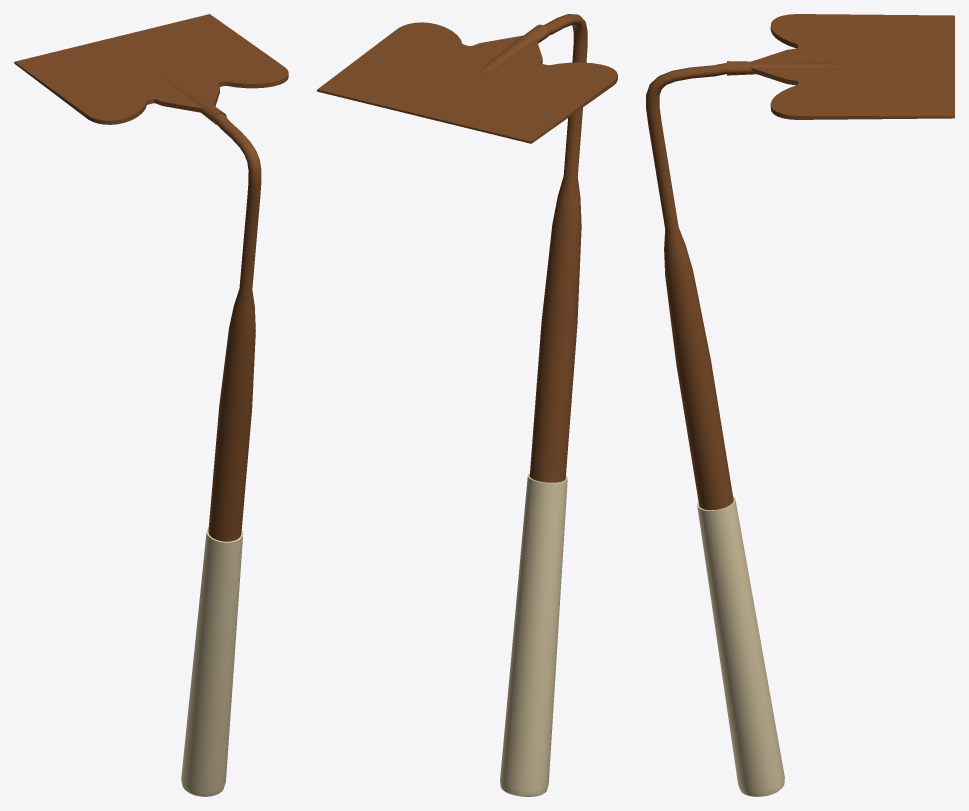
Rendered from hoe.fbx.
3 renders of one model, left to right at view 1: azimuth 30°, elevation 25°; view 2: azimuth 150°, elevation 25°; view 3: azimuth 270°, elevation 25°, orthographic. The views are drawn at different scales.
Visible parts, largest first — view 1: Cylinder; view 2: Cylinder; view 3: Cylinder.
Part boxes in pixels (bbox=[...]): Cylinder: bbox=[14, 14, 288, 796]; Cylinder: bbox=[317, 14, 617, 796]; Cylinder: bbox=[646, 14, 954, 796].
Bounding box in the file's own units: 1240 × 4141 × 1589.
